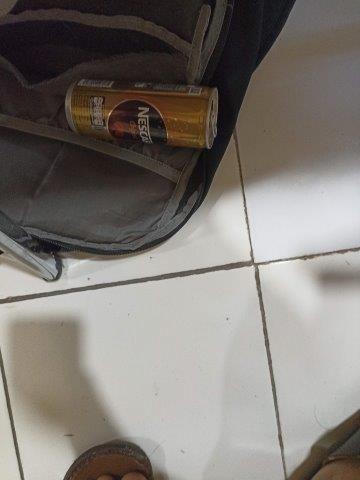kaleng: (65, 78, 218, 149)
